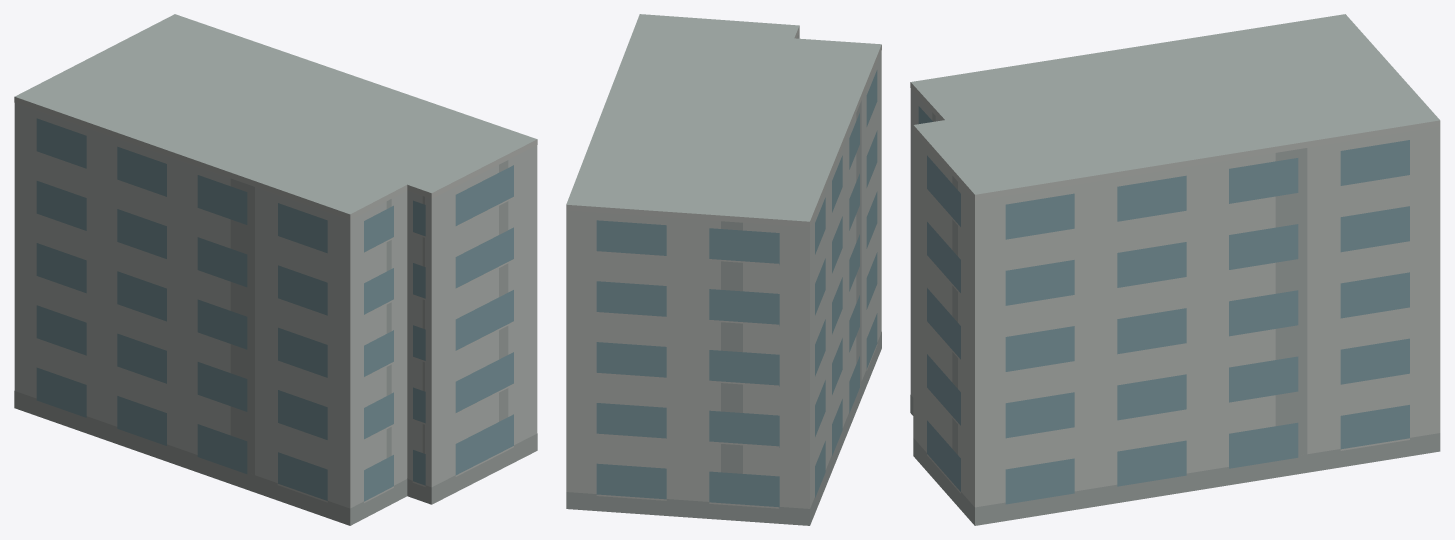
File: survey-upis-32930392.glb
3 views of the same model, side by side, from view 1: azimuth 30°, elevation 25°; view 2: azimuth 150°, elevation 25°; view 3: azimuth 270°, elevation 25° (orthographic). The views are drawn at different scales.
Visible parts, largest first — view 1: survey-upis-32930392.tmp; view 2: survey-upis-32930392.tmp; view 3: survey-upis-32930392.tmp.
Boxes of the visible parts, bbox=[...] form: survey-upis-32930392.tmp: bbox=[14, 14, 537, 525]; survey-upis-32930392.tmp: bbox=[566, 14, 881, 525]; survey-upis-32930392.tmp: bbox=[910, 14, 1440, 525].
Bounding box in the file's own units: 15.23 × 13 × 18.86.
